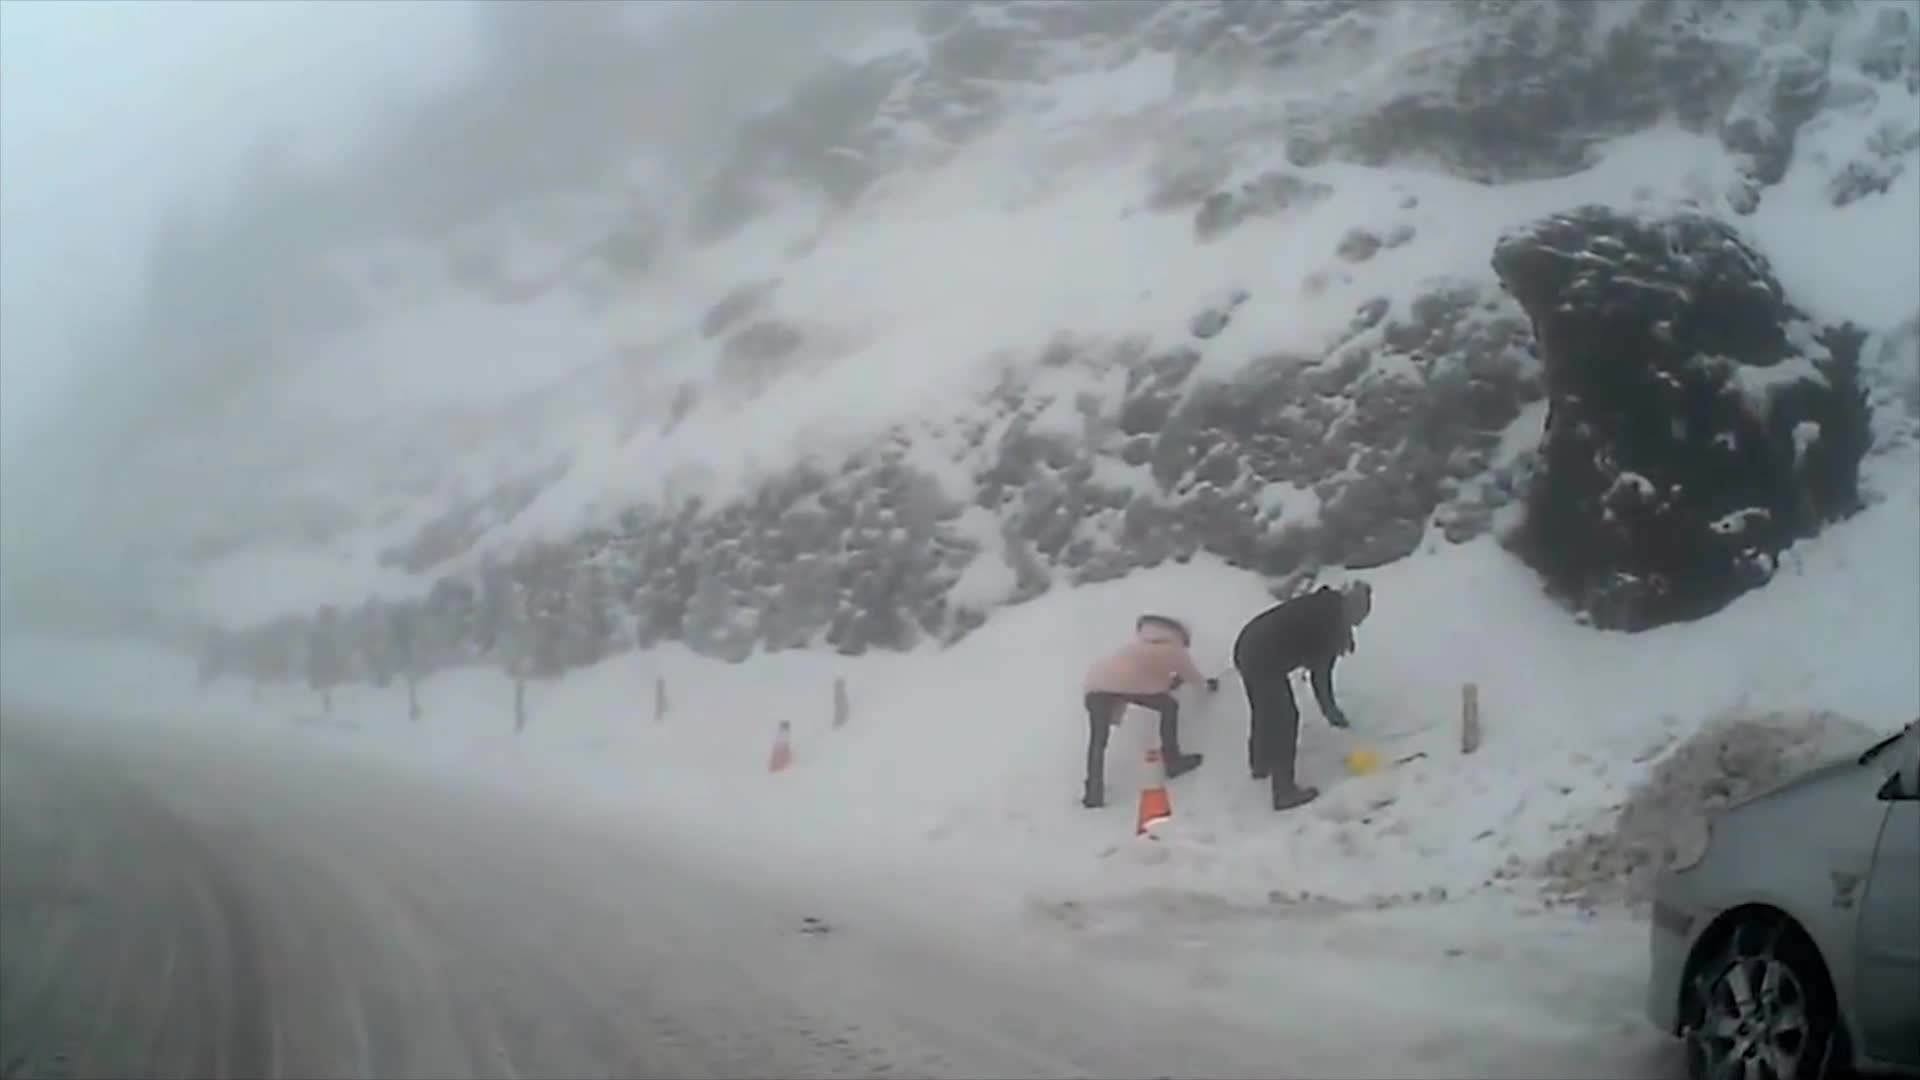pedestrian: (1232, 583, 1374, 812), (1077, 609, 1221, 812)
vehicle: (1641, 700, 1920, 1080)
